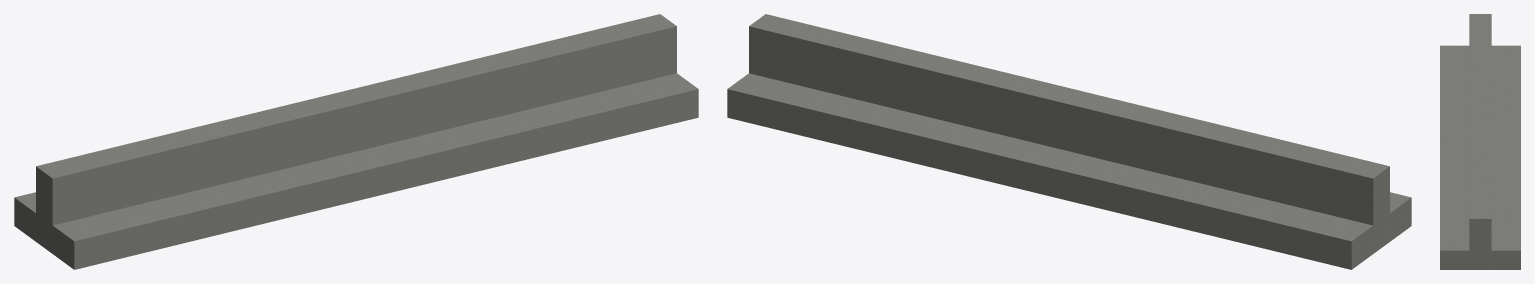
3 renders of one model, left to right at view 1: azimuth 30°, elevation 25°; view 2: azimuth 150°, elevation 25°; view 3: azimuth 270°, elevation 25°, orthographic. The views are drawn at different scales.
Visible parts, largest first — view 1: dam_weir_v1; view 2: dam_weir_v1; view 3: dam_weir_v1.
Part boxes in pixels (x1,y1,x2,y2): dam_weir_v1: (14,14,698,269); dam_weir_v1: (727,14,1411,269); dam_weir_v1: (1440,14,1520,269).
Size of the model in its own units: 24 by 2.78 by 4.
Materials: 1 (1 with a texture image).
